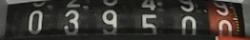digits: (139, 0, 164, 40), (62, 0, 84, 37), (214, 1, 235, 38), (180, 0, 198, 38), (101, 10, 117, 36), (28, 10, 43, 32)
